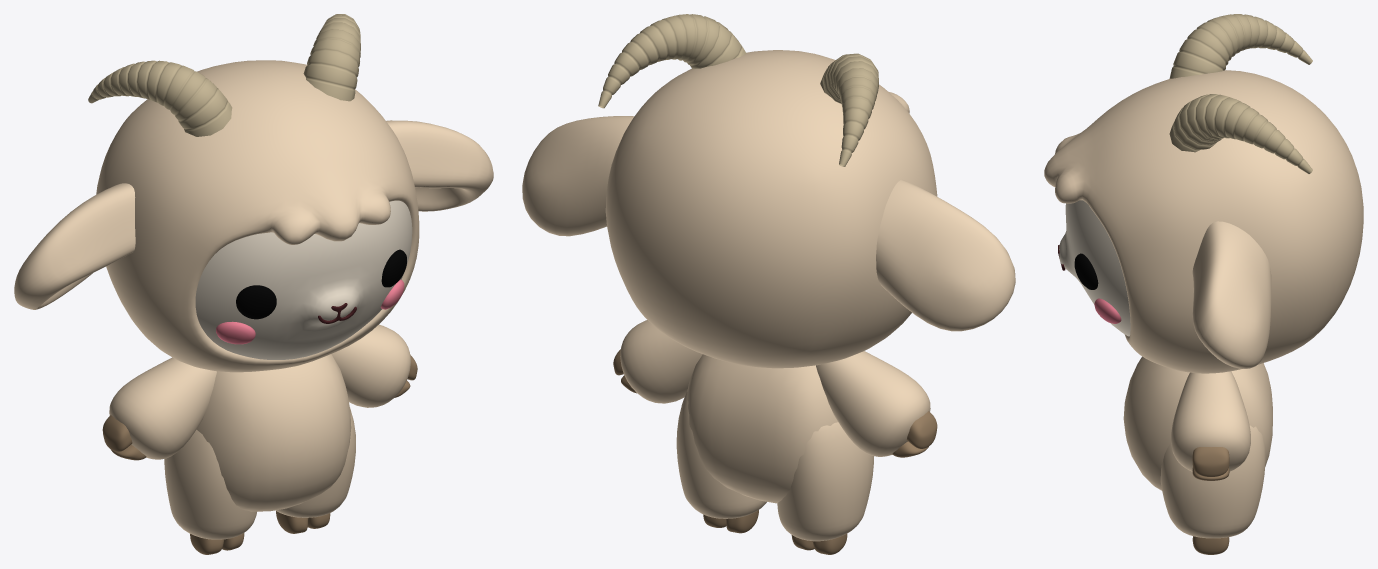
The model's file is Sheep.fbx.
3 renders of one model, left to right at view 1: azimuth 30°, elevation 25°; view 2: azimuth 150°, elevation 25°; view 3: azimuth 270°, elevation 25°, orthographic. The views are drawn at different scales.
Parts seen in each view (by area): view 1: Goat; view 2: Goat; view 3: Goat.
Part boxes in pixels (left/top/right/bottom): Goat: left=14, top=14, right=493, bottom=554; Goat: left=522, top=14, right=1015, bottom=554; Goat: left=1044, top=14, right=1363, bottom=554.
Size of the model in its own units: 242 by 240 by 148.
